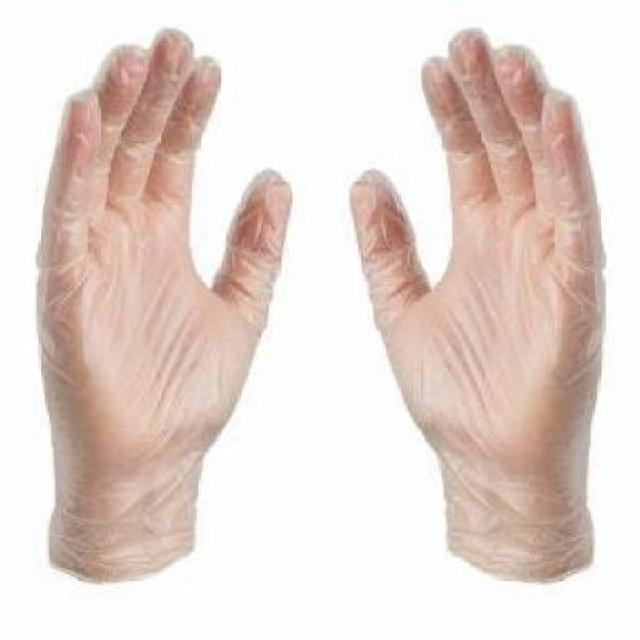glove_hand: (348, 28, 626, 602), (34, 26, 291, 600)
